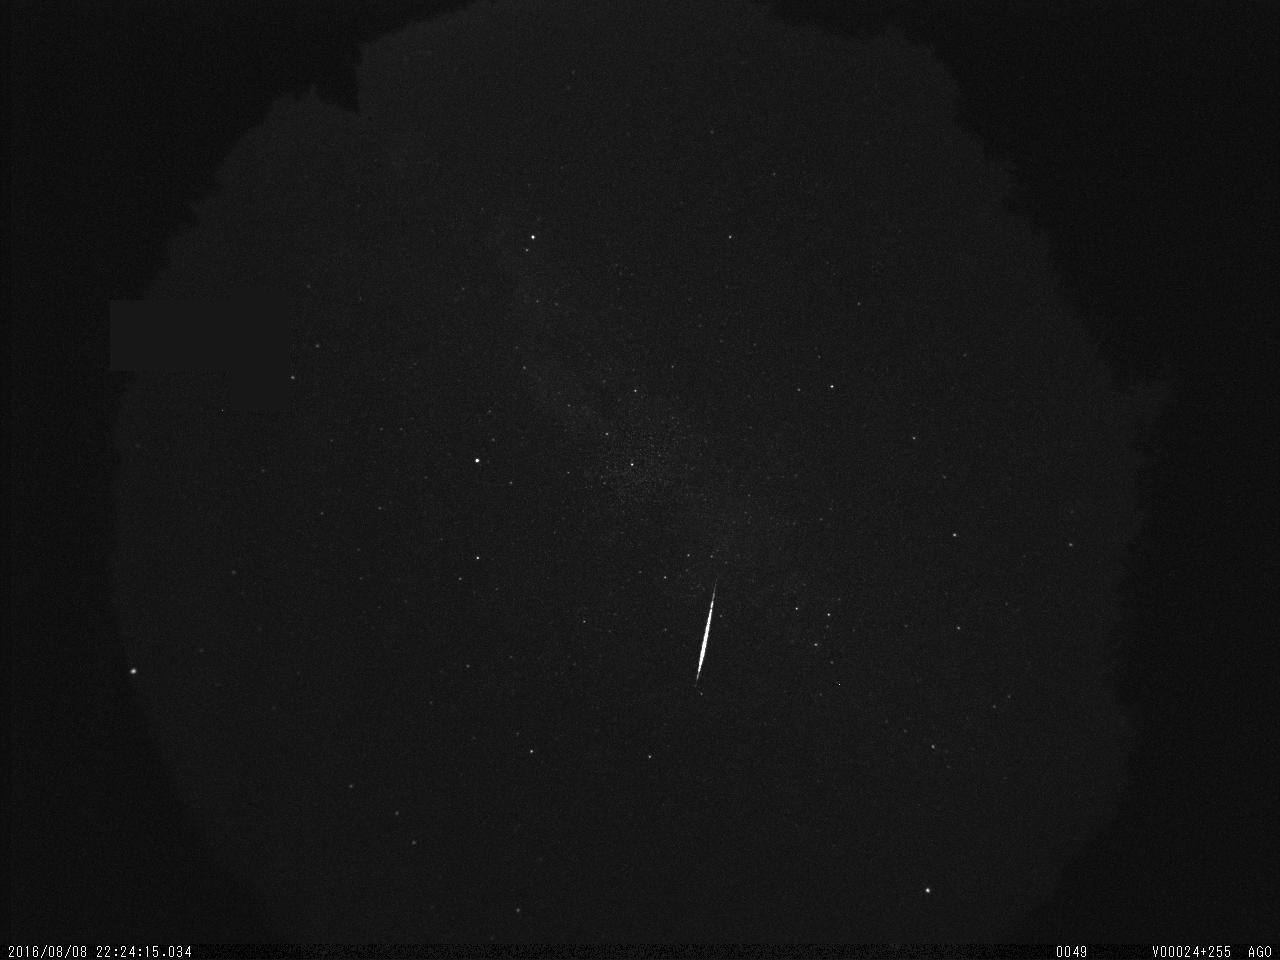Meteor: (680, 574, 728, 693)
